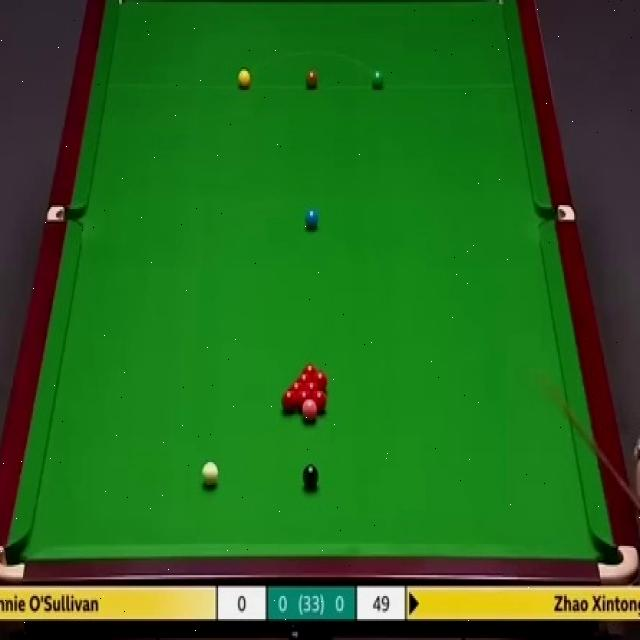black-ball: (302, 463, 320, 488)
blue-ball: (305, 210, 319, 228)
brown-ball: (304, 72, 318, 88)
green-ball: (372, 67, 387, 92)
pink-ball: (301, 397, 318, 424)
red-ball: (311, 389, 327, 413), (282, 389, 298, 411), (296, 389, 311, 412), (312, 371, 329, 391), (297, 372, 312, 386), (289, 381, 304, 394), (303, 364, 317, 375)
white-ball: (202, 460, 219, 491)
yellow-ball: (236, 68, 251, 90)
